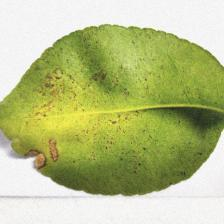canker: (43, 64, 178, 176)
